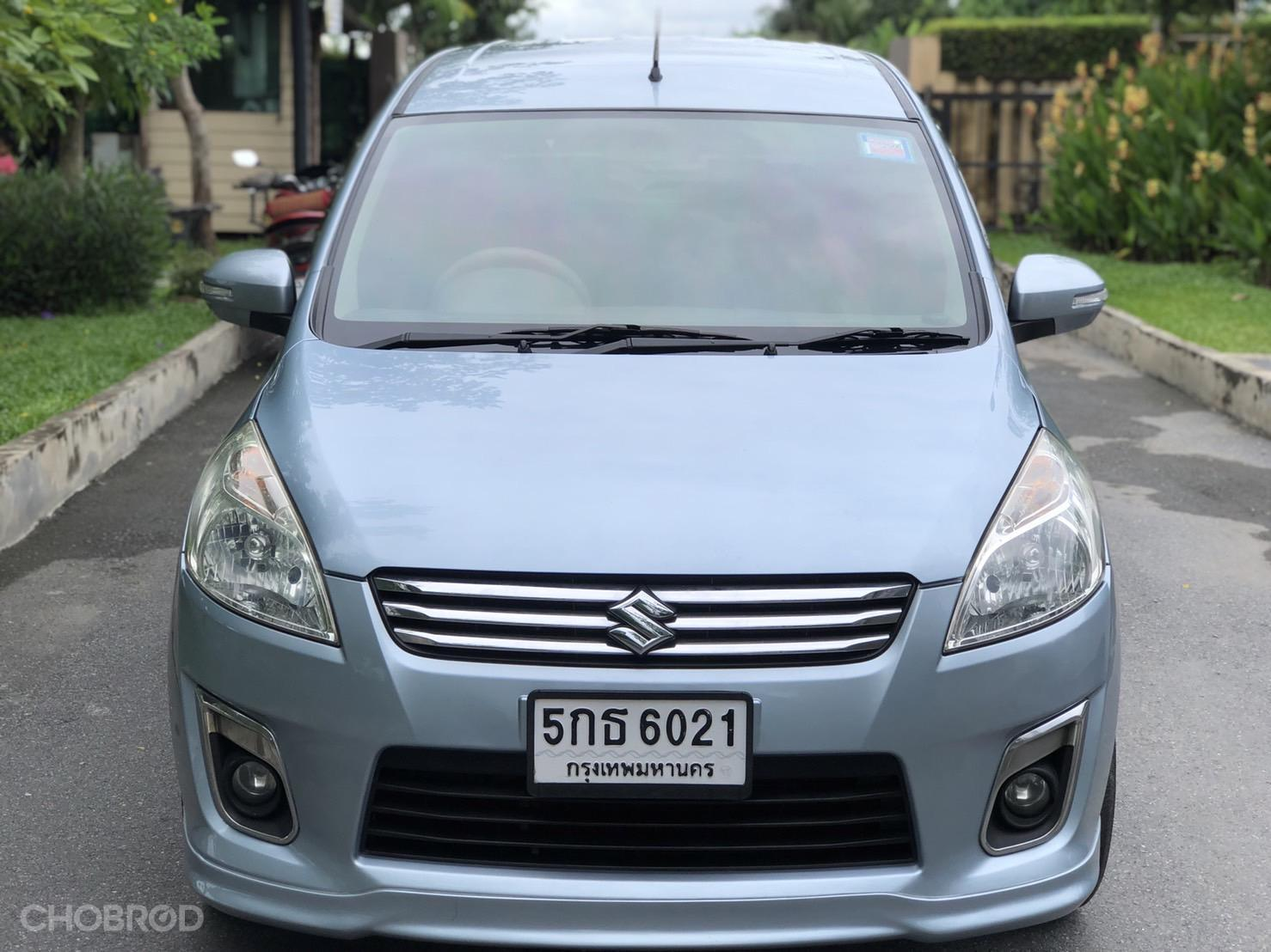license-plate: (515, 680, 761, 802)
